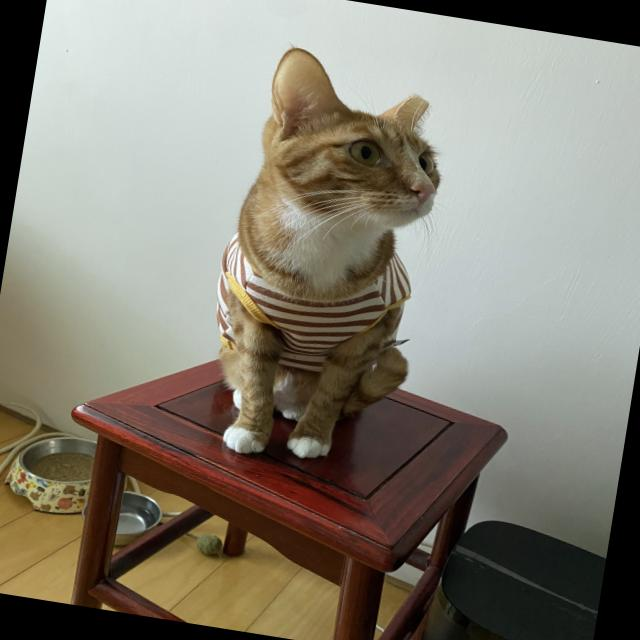cat3: (185, 40, 461, 478)
